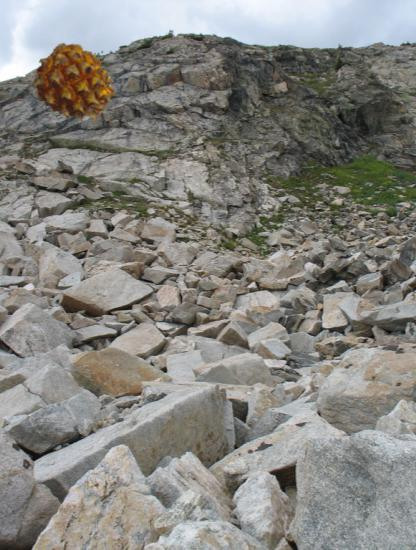Pineapple: (32, 42, 117, 127)
